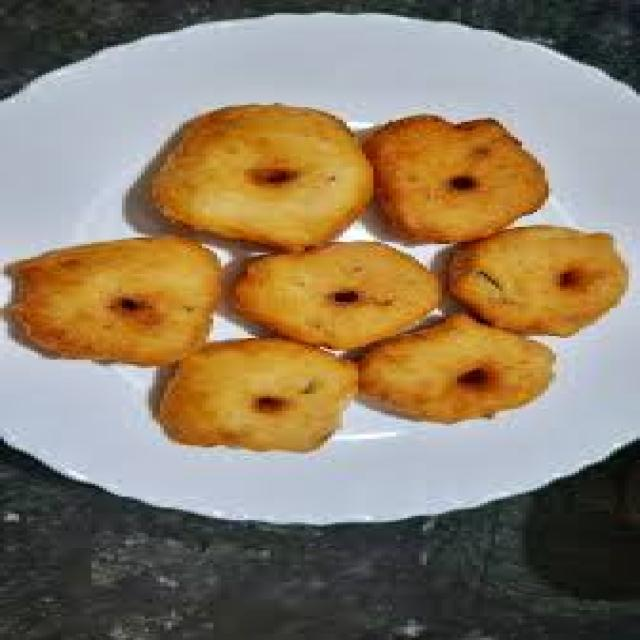MEDU VADA: (149, 103, 370, 248), (8, 240, 217, 364), (370, 116, 545, 242), (156, 338, 354, 449), (236, 242, 438, 349), (358, 313, 549, 417), (450, 225, 625, 336)
